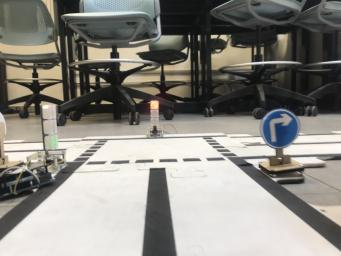right: (258, 109, 304, 184), (258, 109, 304, 184), (258, 109, 304, 184)
street: (0, 134, 341, 256), (0, 134, 341, 256), (0, 134, 341, 256)
traffic_light: (27, 105, 66, 173), (27, 105, 66, 173), (27, 105, 66, 173), (147, 101, 163, 137), (147, 101, 163, 137), (147, 101, 163, 137)
